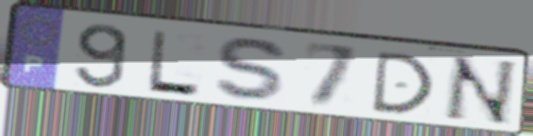7: (301, 40, 360, 112)
9: (73, 22, 131, 91)
D: (368, 49, 437, 116)
L: (143, 28, 204, 100)
N: (438, 54, 520, 128)
S: (210, 35, 294, 105)
